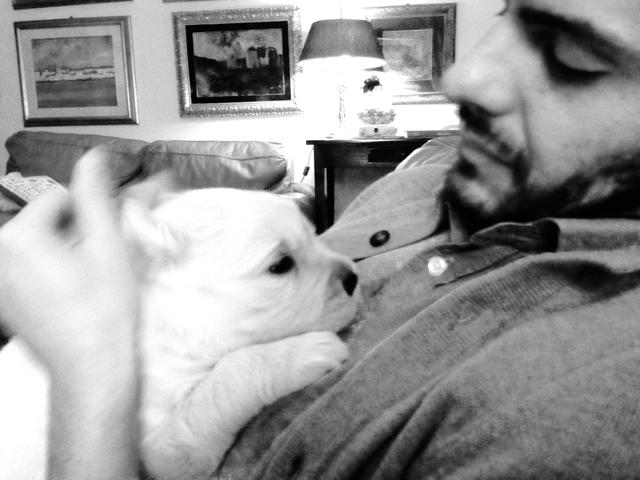dog: (108, 120, 368, 422)
